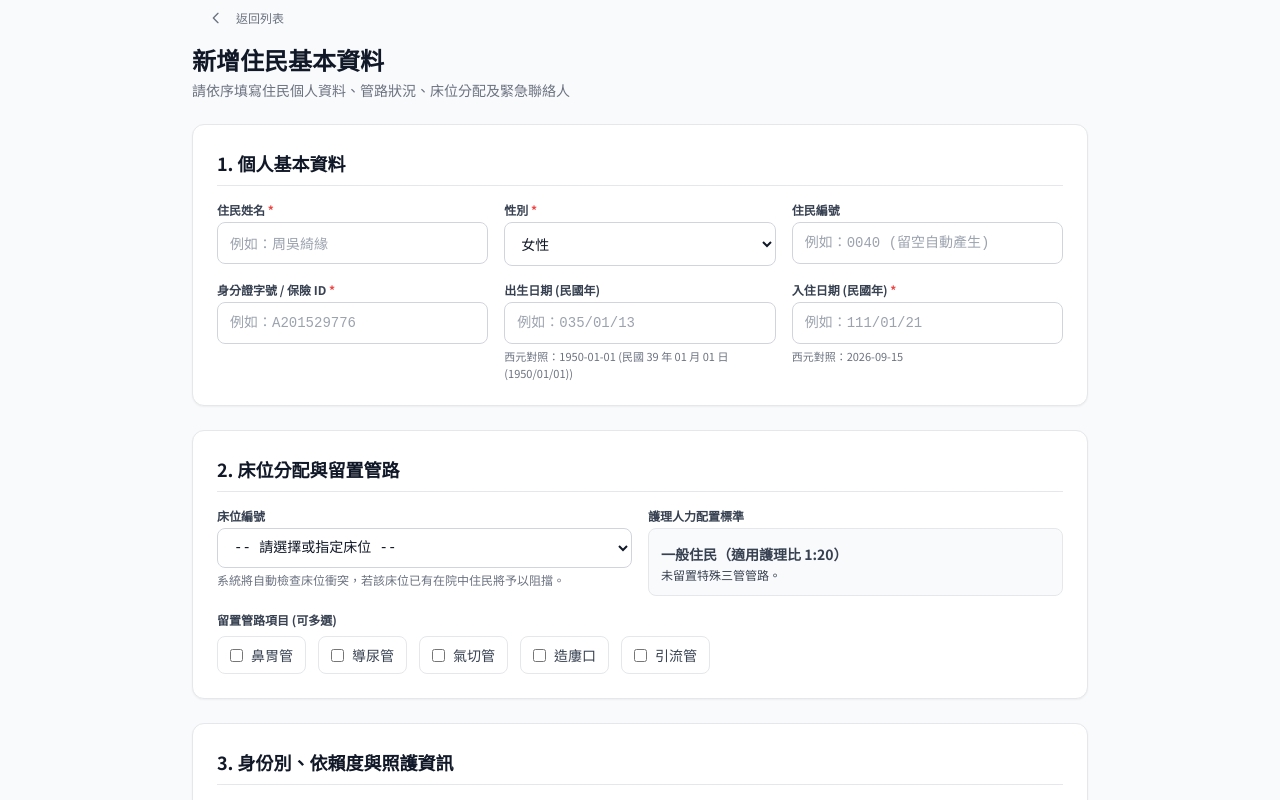
it: ResidentFormPage › automatically calculates three pipe status when selecting pipes
Expected: the text "一般住民（適用護理比 1:20）" is shown, [661,544,848,564]
What coordinates should you click on to do the following:
click the checkbox labelled "鼻胃管"
I would click on:
 (236, 655)
Its box is [230,648,243,662].
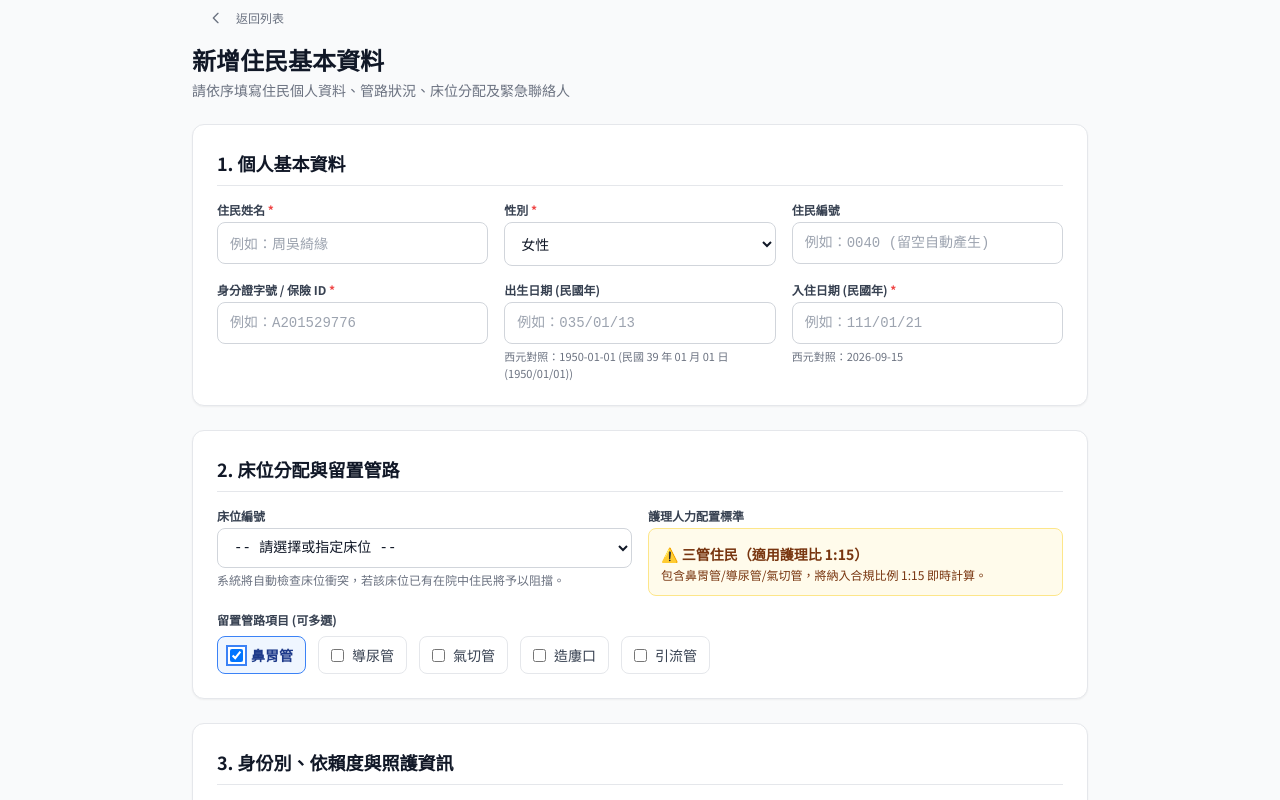
Expected: the text "⚠️ 三管住民（適用護理比 1:15）" is shown, [661,544,868,564]
